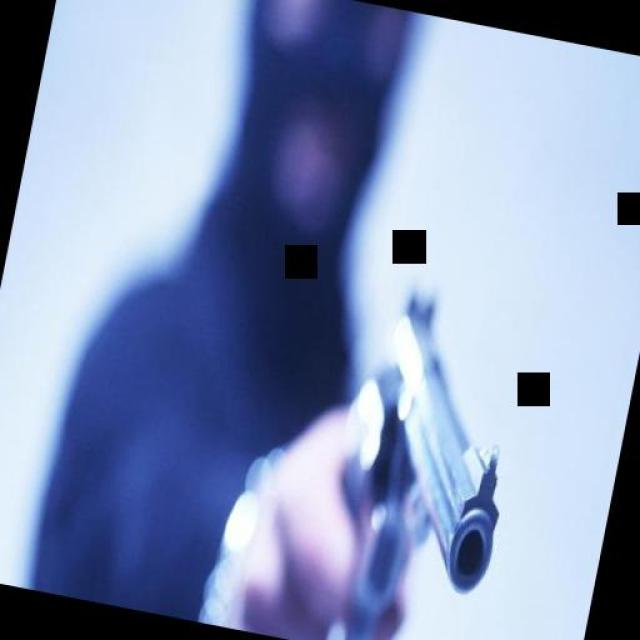gun: (305, 267, 542, 640)
